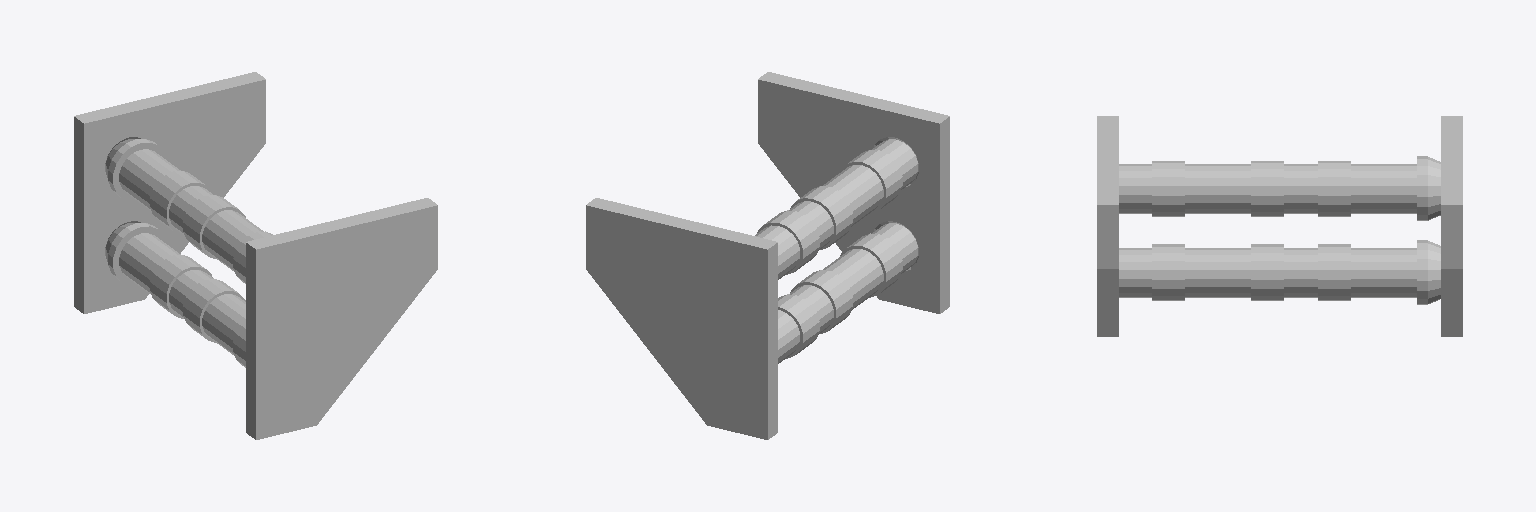
Rendered from ShelfPipe.obj.
3 renders of one model, left to right at view 1: azimuth 30°, elevation 25°; view 2: azimuth 150°, elevation 25°; view 3: azimuth 270°, elevation 25°, orthographic.
Parts seen in each view (by area): view 1: Cube.001_Cube.015; view 2: Cube.001_Cube.015; view 3: Cube.001_Cube.015.
Part boxes in pixels (left/top/right/bottom): Cube.001_Cube.015: left=74, top=72, right=437, bottom=439; Cube.001_Cube.015: left=586, top=72, right=949, bottom=439; Cube.001_Cube.015: left=1097, top=116, right=1462, bottom=336.
Bounding box in the file's own units: 4 × 4 × 6.94.